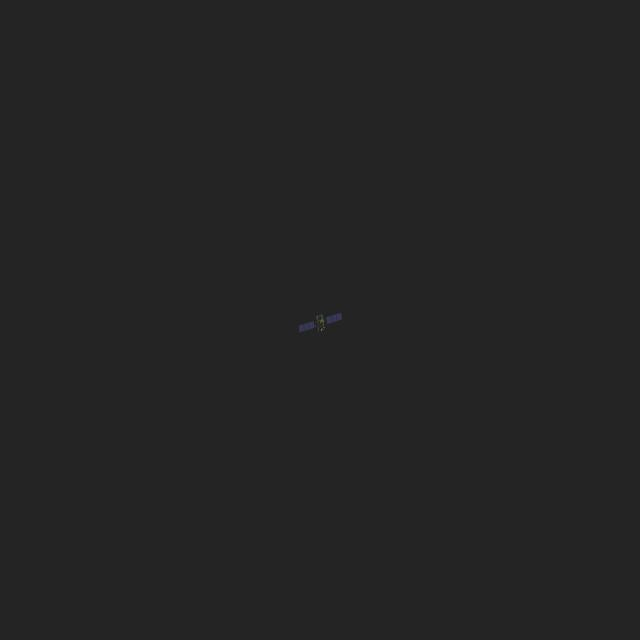satellite: (296, 308, 346, 341)
